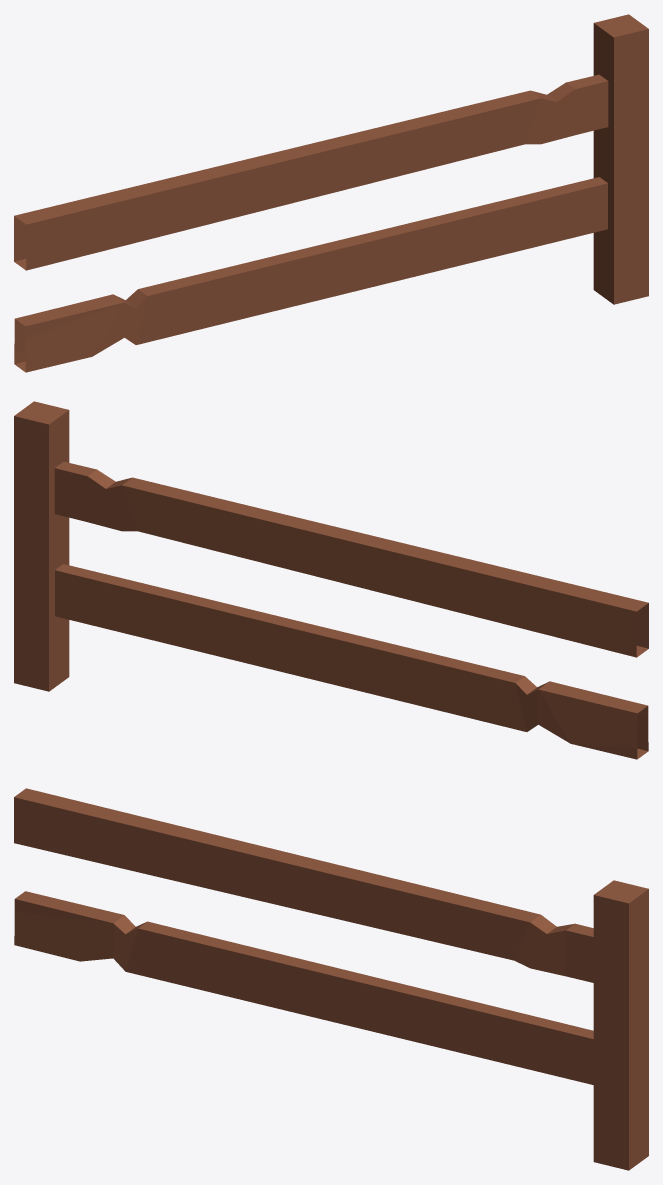
File: fence.1.close.L.glb
The picture shows the model from 3 angles, top to bottom: view 1: azimuth 30°, elevation 25°; view 2: azimuth 150°, elevation 25°; view 3: azimuth 330°, elevation 25°; orthographic projection.
Parts seen in each view (by area): view 1: fence.1.close.L; view 2: fence.1.close.L; view 3: fence.1.close.L.
Boxes of the visible parts, x1,y1,x2,y2 form: fence.1.close.L: [14, 14, 648, 372]; fence.1.close.L: [14, 401, 648, 759]; fence.1.close.L: [14, 788, 648, 1170].
Size of the model in its own units: 2.95 by 1.21 by 0.1655.
